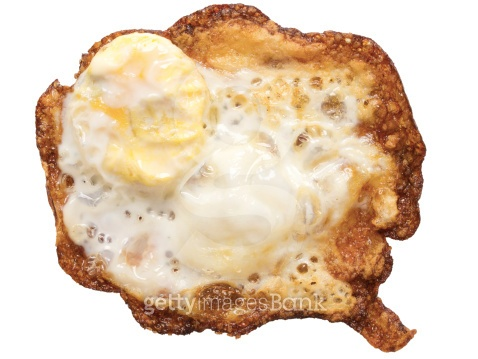fried egg: (35, 4, 444, 351)
